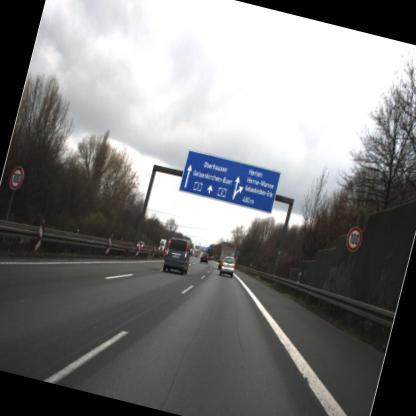prohibitory: (339, 220, 368, 258), (3, 160, 31, 198)
